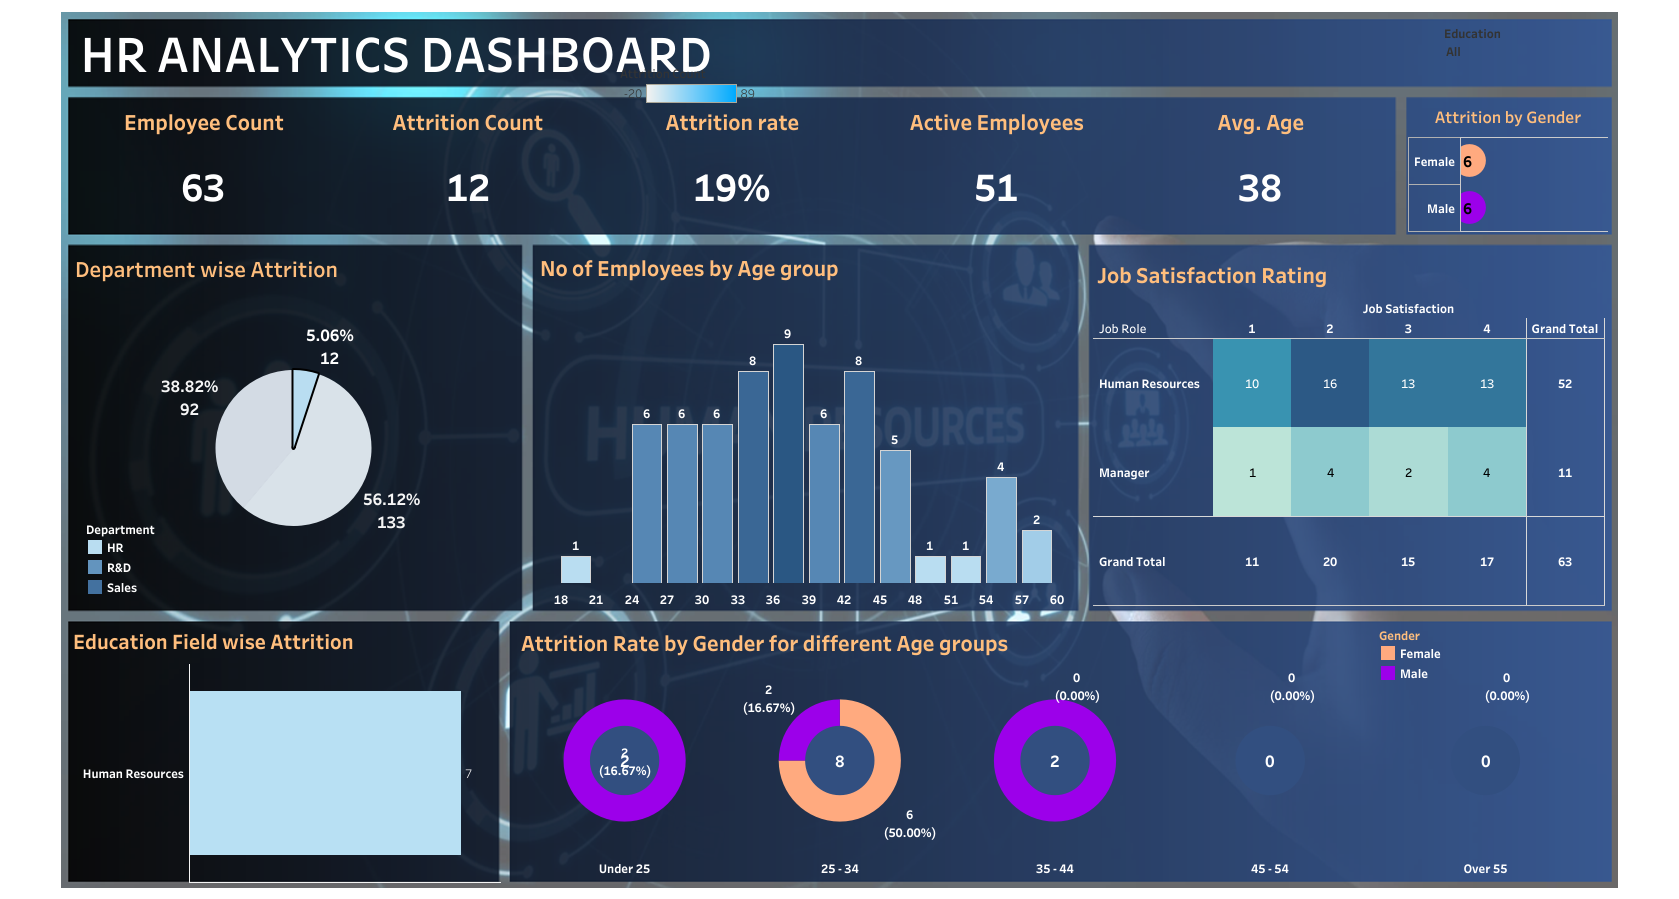

This screenshot's page, from the dashboard's own definition file:
{"tool":"tableau","page":{"name":"HR Analytics Dashboard","canvas":[1680,900],"ordinal":0},"visuals":[{"type":"image","param":"D:/Data Analytics/Data Analytics Projects/Portfolio projects/Tableau projects/HR","box":[8,8,1664,884]},{"type":"text","box":[78,23,1125,58]},{"type":"filter","title":"KPI","param":"[federated.1jcx6fq0z0b1ij19rsqne18s2c5n].[none:Education:nk]","box":[1444,23,160,59]},{"type":"legend","title":"Education Field wise Attrition","param":"[federated.1jcx6fq0z0b1ij19rsqne18s2c5n].[sum:Calculation_351562259613630464:qk]","box":[620,60,140,76]},{"type":"worksheet","title":"Attrition by Gender","mark":"Automatic","rows":["Gender"],"cols":["Calculation_351562259613630464","Calculation_351562259613630464"],"box":[1408,99,200,133]},{"type":"worksheet","title":"KPI","mark":"Automatic","box":[72,101,1321,130]},{"type":"worksheet","title":"No of Employees by Age group","mark":"Automatic","rows":["Age"],"cols":["Age (bin)"],"box":[536,247,540,360]},{"type":"worksheet","title":"Department wise Attrition","mark":"Pie","box":[71,248,445,356]},{"type":"worksheet","title":"Job Satisfaction Rating","mark":"Square","rows":["Job Role"],"cols":["Job Satisfaction"],"box":[1093,254,512,352]},{"type":"legend","title":"Department wise Attrition","param":"[federated.1jcx6fq0z0b1ij19rsqne18s2c5n].[none:Department:nk]","box":[85,518,84,78]},{"type":"worksheet","title":"Education Field wise Attrition","mark":"Automatic","rows":["Education Field"],"cols":["Calculation_351562259613630464"],"box":[69,621,431,261]},{"type":"worksheet","title":"Attrition Rate by Gender for different Age groups","mark":"Pie","rows":["Calculation_351562260015116293","Calculation_351562260015116293"],"cols":["CF_age band"],"box":[517,622,1076,255]},{"type":"legend","title":"Attrition Rate by Gender for different Age groups","param":"[federated.1jcx6fq0z0b1ij19rsqne18s2c5n].[none:Gender:nk]","box":[1378,624,140,58]}]}

Visuals, with their boxes in screenshot pixels (x1, y1, x2, y2), scaled from the page's 1680x900 canvas onto the 1679x899 screenshot:
image: crop(8, 8, 1671, 891)
text: crop(78, 23, 1202, 81)
"KPI" filter: crop(1443, 23, 1603, 82)
"Education Field wise Attrition" legend: crop(620, 60, 760, 136)
"Attrition by Gender" worksheet: crop(1407, 99, 1607, 232)
"KPI" worksheet: crop(72, 101, 1392, 231)
"No of Employees by Age group" worksheet: crop(536, 247, 1075, 606)
"Department wise Attrition" worksheet (Pie marks): crop(71, 248, 516, 603)
"Job Satisfaction Rating" worksheet (Square marks): crop(1092, 254, 1604, 605)
"Department wise Attrition" legend: crop(85, 517, 169, 595)
"Education Field wise Attrition" worksheet: crop(69, 620, 500, 881)
"Attrition Rate by Gender for different Age groups" worksheet (Pie marks): crop(517, 621, 1592, 876)
"Attrition Rate by Gender for different Age groups" legend: crop(1377, 623, 1517, 681)
